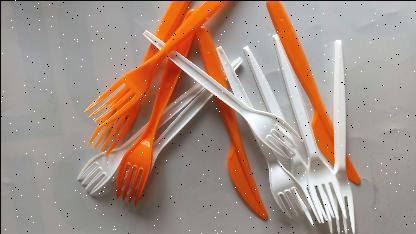Others: (84, 0, 235, 157), (139, 29, 303, 160), (80, 0, 232, 128), (263, 0, 361, 188), (72, 70, 214, 196), (112, 2, 194, 206), (214, 44, 310, 218), (242, 43, 332, 226), (194, 21, 274, 223), (270, 31, 350, 221), (324, 36, 358, 234)
